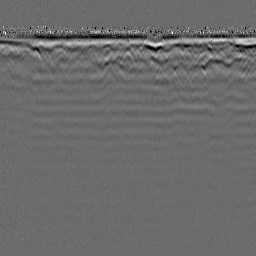cavity: (120, 47, 136, 68)
